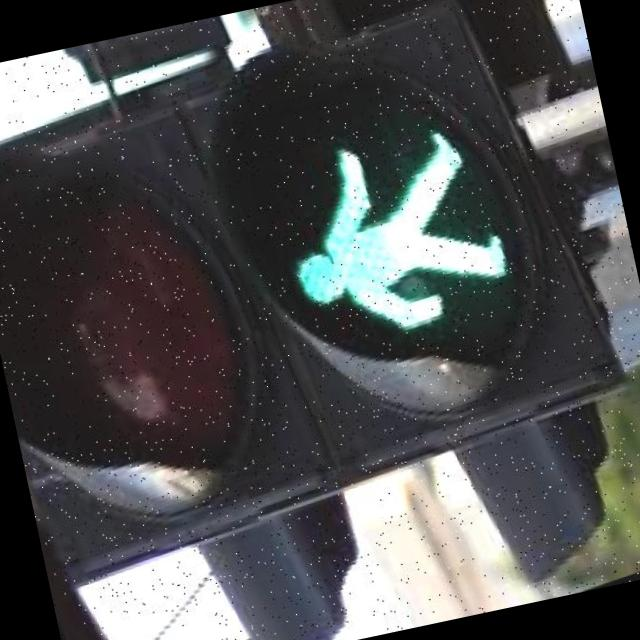green_light: (247, 91, 550, 382)
